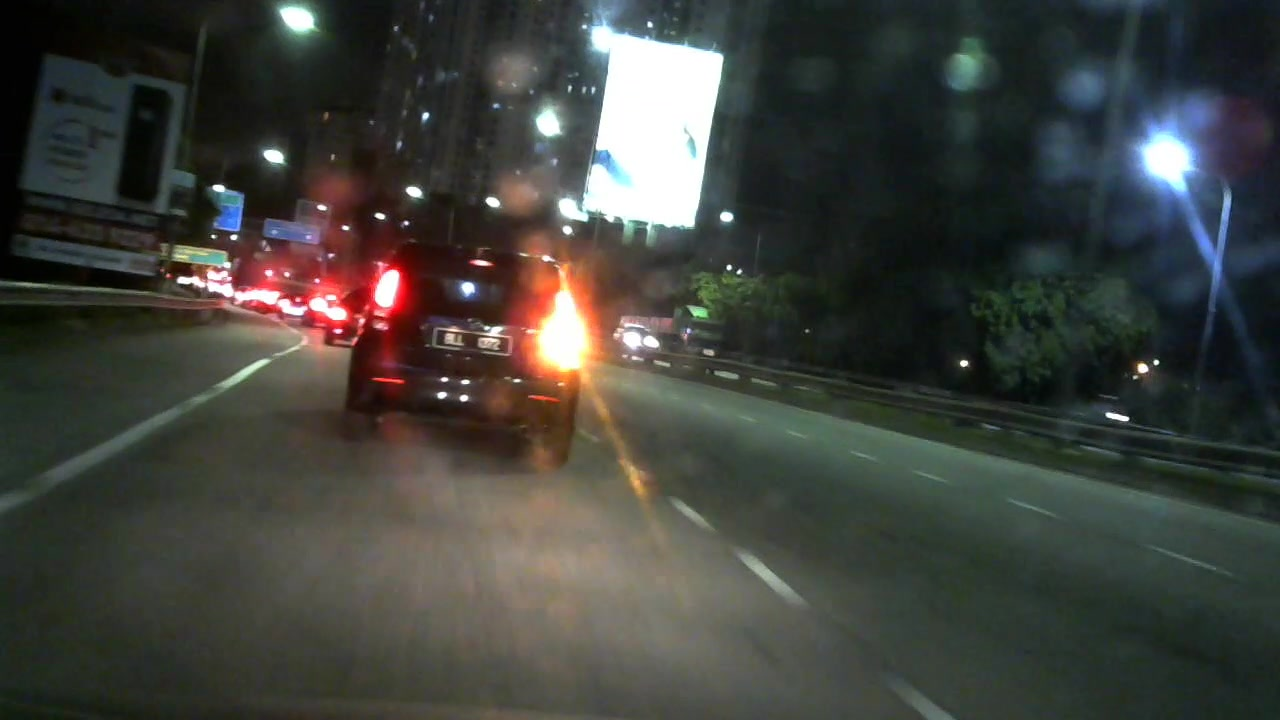Car: (329, 241, 604, 459), (620, 315, 660, 359), (280, 286, 315, 324)
